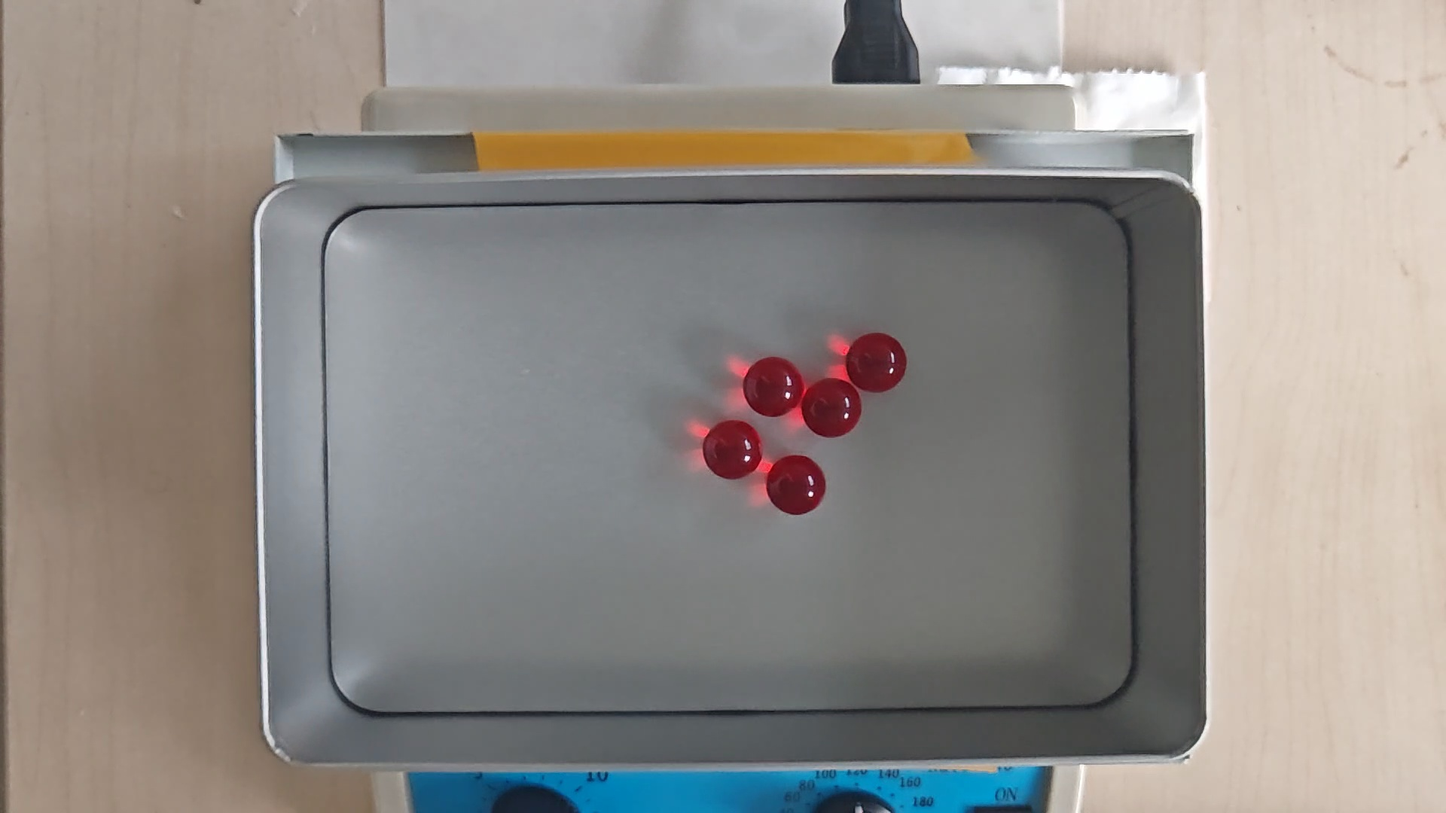ball: (766, 455, 826, 516), (744, 356, 803, 418), (704, 421, 762, 480), (848, 333, 905, 393), (804, 379, 861, 437)
container: (319, 202, 1133, 717)
